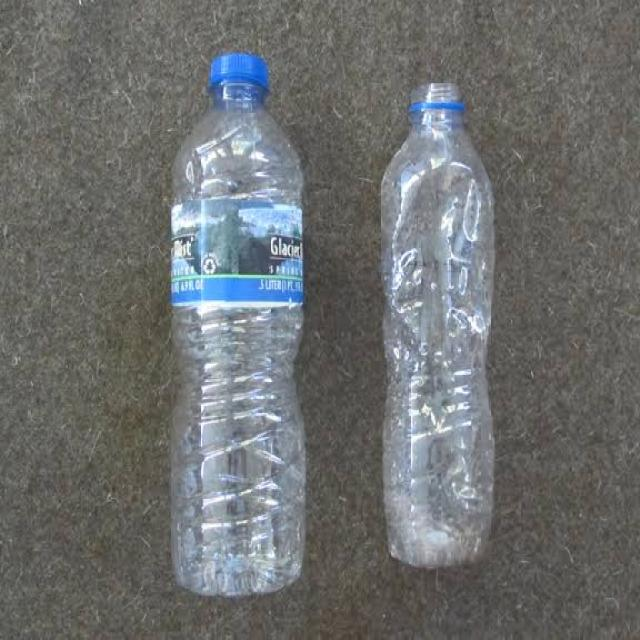plastic bottle: (167, 45, 305, 609), (368, 71, 506, 576)
